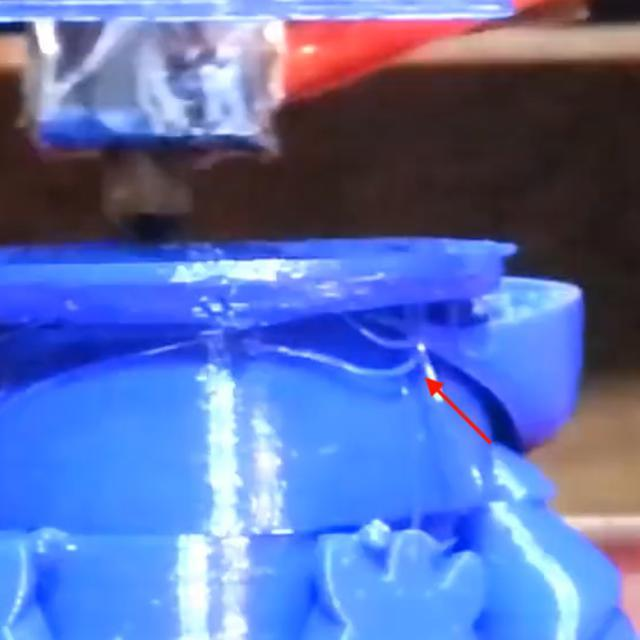spaghetti: (220, 294, 430, 388)
